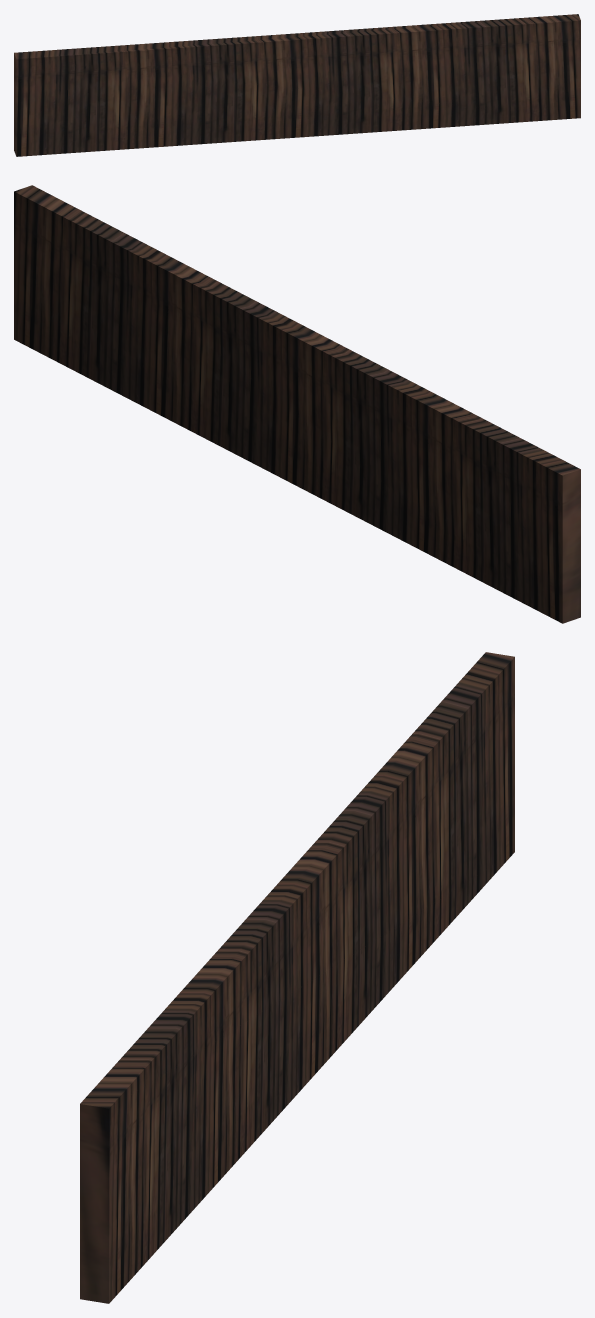
File: H1_F1_WoodenBlock_1.gltf
3 views of the same model, one above another, from view 1: azimuth 30°, elevation 25°; view 2: azimuth 150°, elevation 25°; view 3: azimuth 270°, elevation 25° (orthographic). The views are drawn at different scales.
Parts seen in each view (by area): view 1: H1_F1_WoodenBlock_1; view 2: H1_F1_WoodenBlock_1; view 3: H1_F1_WoodenBlock_1.
Boxes of the visible parts, x1,y1,x2,y2 form: H1_F1_WoodenBlock_1: [14, 14, 580, 156]; H1_F1_WoodenBlock_1: [14, 185, 580, 623]; H1_F1_WoodenBlock_1: [80, 652, 514, 1303].
Size of the model in its own units: 13.43 by 2.68 by 5.41.
1 material, 1 textured.
